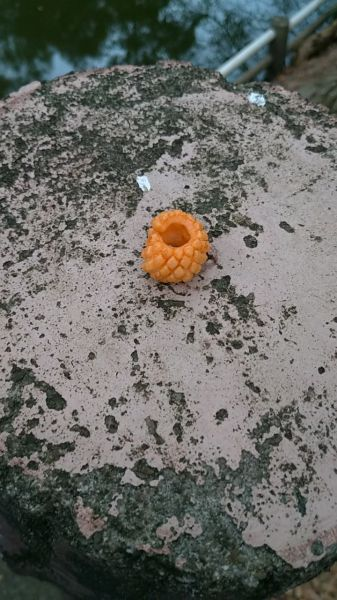eggs: (138, 206, 212, 289)
